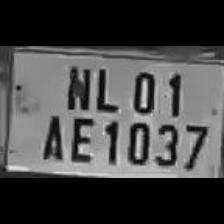0: (126, 65, 158, 113), (121, 118, 150, 166)
1: (159, 66, 187, 116), (97, 114, 121, 164)
3: (152, 118, 181, 166)
7: (180, 118, 209, 172)
A: (36, 108, 66, 162)
E: (66, 112, 94, 162)
L: (90, 62, 120, 113)
N: (61, 61, 93, 112)
